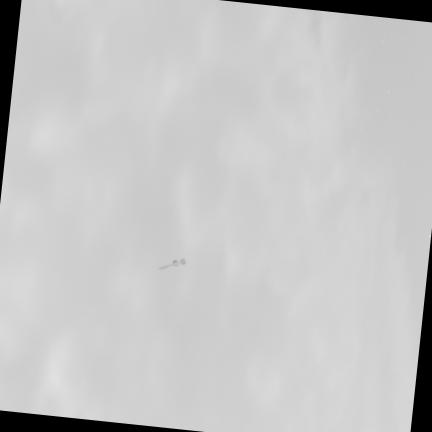Shahed: (159, 257, 185, 268)
